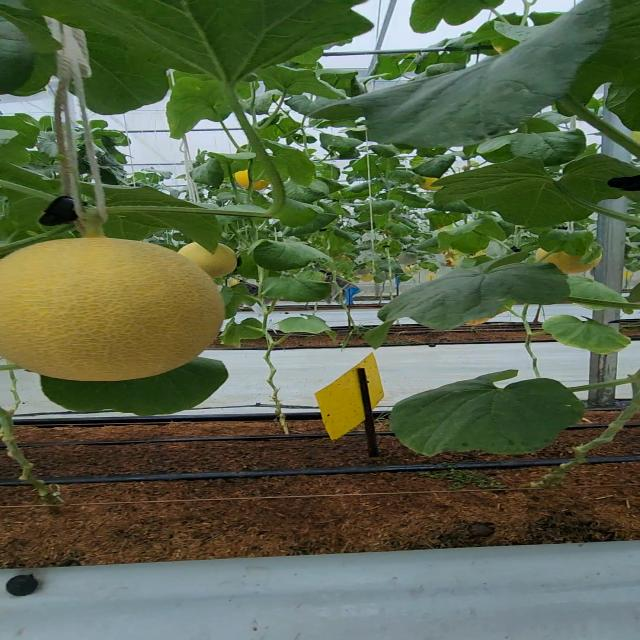Melon: (0, 233, 235, 386)
